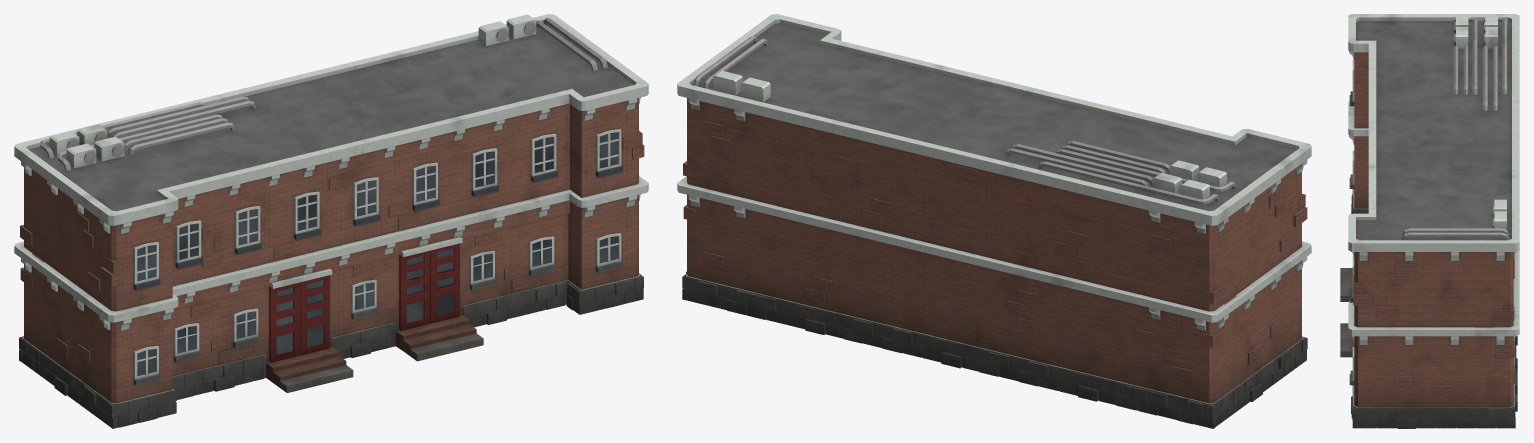
File: building_2Story_Wide_2Doors.glb
3 views of the same model, side by side, from view 1: azimuth 30°, elevation 25°; view 2: azimuth 150°, elevation 25°; view 3: azimuth 270°, elevation 25° (orthographic). The views are drawn at different scales.
Visible parts, largest first — view 1: 2Story_Wide_2Doors_medium; view 2: 2Story_Wide_2Doors_medium; view 3: 2Story_Wide_2Doors_medium.
Part boxes in pixels (x1,y1,x2,y2): 2Story_Wide_2Doors_medium: (14,14,648,428); 2Story_Wide_2Doors_medium: (677,14,1311,428); 2Story_Wide_2Doors_medium: (1340,14,1519,428).
Size of the model in its own units: 6.83 by 2.75 by 2.26.
2 materials, 2 textured.
